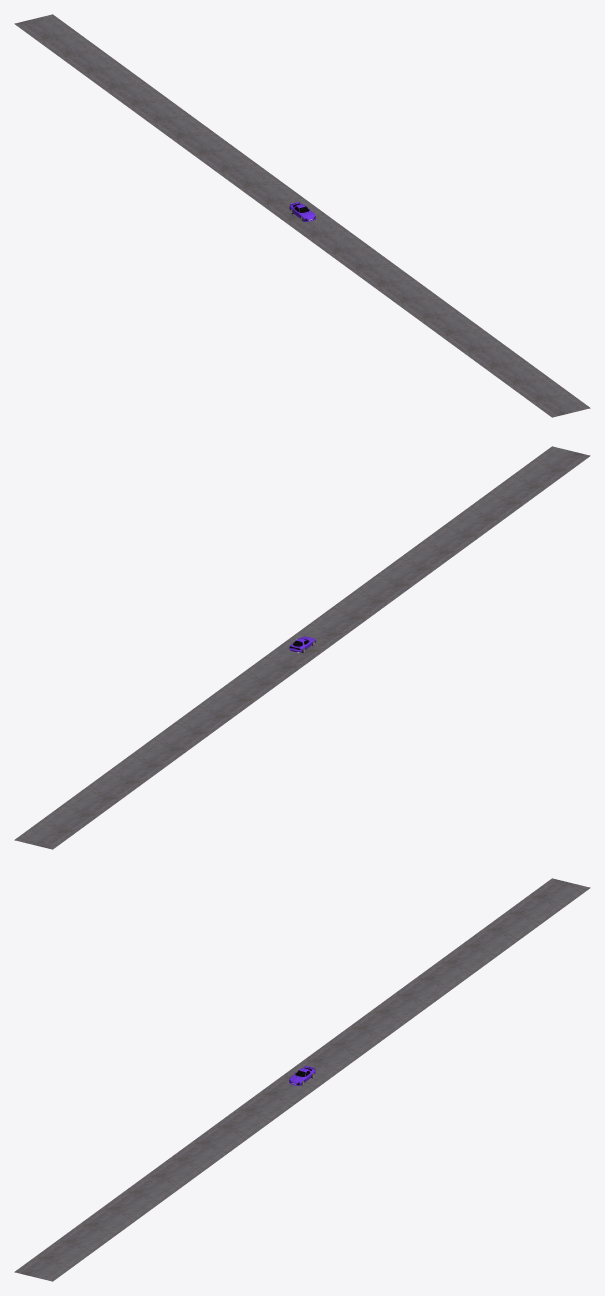
3 renders of one model, top to bottom at view 1: azimuth 30°, elevation 25°; view 2: azimuth 150°, elevation 25°; view 3: azimuth 330°, elevation 25°, orthographic.
Visible parts, largest first — view 1: road; view 2: road; view 3: road.
Part boxes in pixels (x1,y1,x2,y2): road: (14, 14, 590, 417); road: (14, 446, 590, 849); road: (14, 878, 590, 1281).
Size of the model in its own units: 6 by 1.38 by 144.
Materials: 8 (3 with a texture image).
